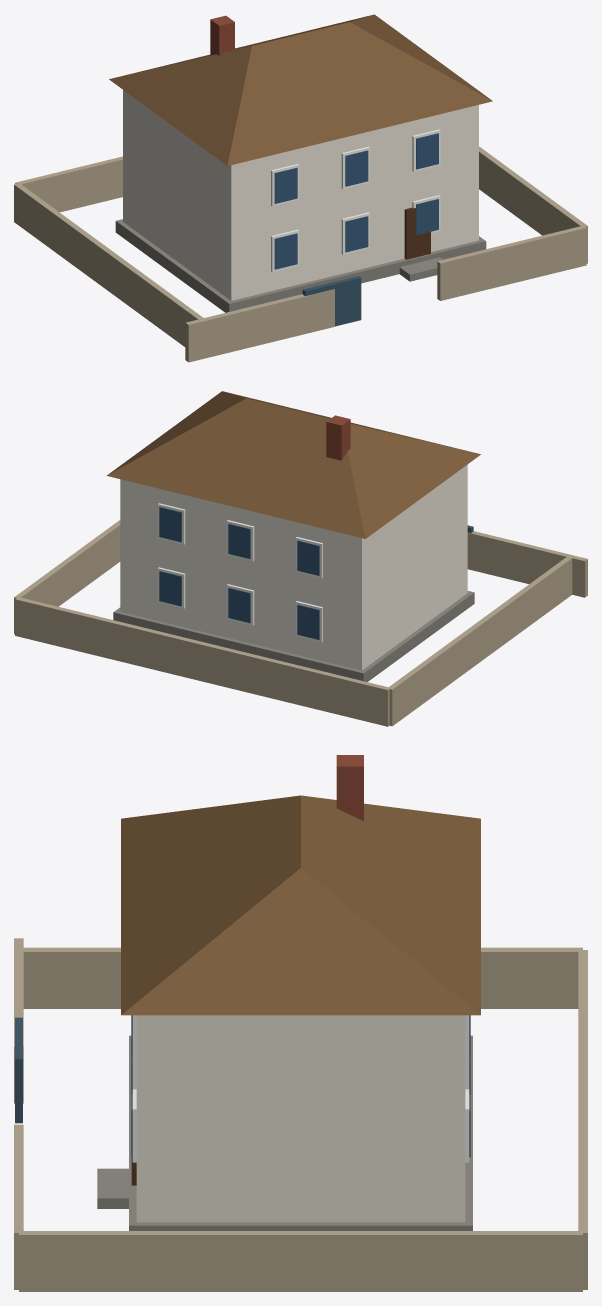
File: house3.glb
3 renders of one model, top to bottom at view 1: azimuth 30°, elevation 25°; view 2: azimuth 150°, elevation 25°; view 3: azimuth 270°, elevation 25°, orthographic. The views are drawn at different scales.
Parts seen in each view (by area): view 1: House; view 2: House; view 3: House.
Boxes of the visible parts, x1,y1,x2,y2 form: House: [14, 14, 587, 362]; House: [14, 391, 587, 726]; House: [14, 755, 587, 1291].
Size of the model in its own units: 17.88 by 9.6 by 14.62.
